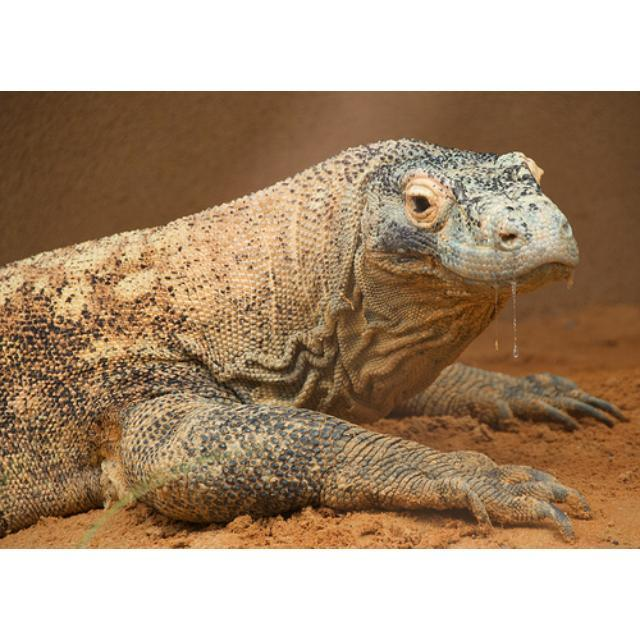KomodoDragon: (1, 135, 632, 543)
